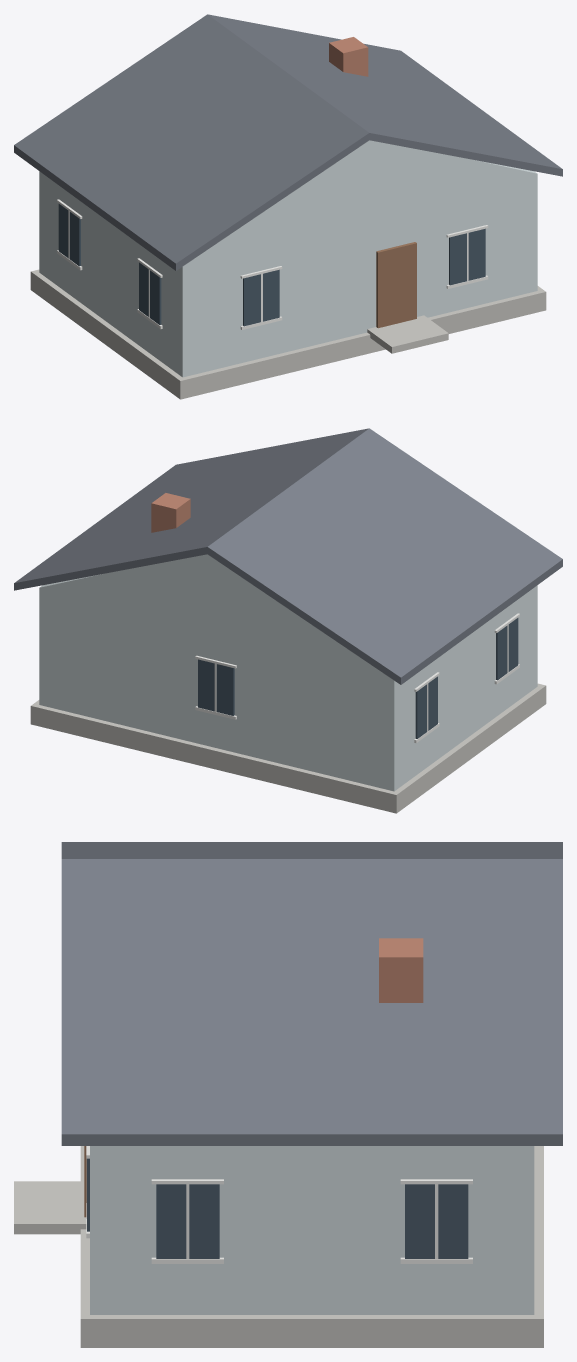
File: house_b.glb
3 renders of one model, top to bottom at view 1: azimuth 30°, elevation 25°; view 2: azimuth 150°, elevation 25°; view 3: azimuth 270°, elevation 25°, orthographic. The views are drawn at different scales.
Visible parts, largest first — view 1: house_b; view 2: house_b; view 3: house_b.
Boxes of the visible parts, bbox=[...] form: house_b: bbox=[14, 14, 562, 399]; house_b: bbox=[14, 428, 562, 813]; house_b: bbox=[14, 842, 562, 1347].
Size of the model in its own units: 10.9 by 6.1 by 8.65.
